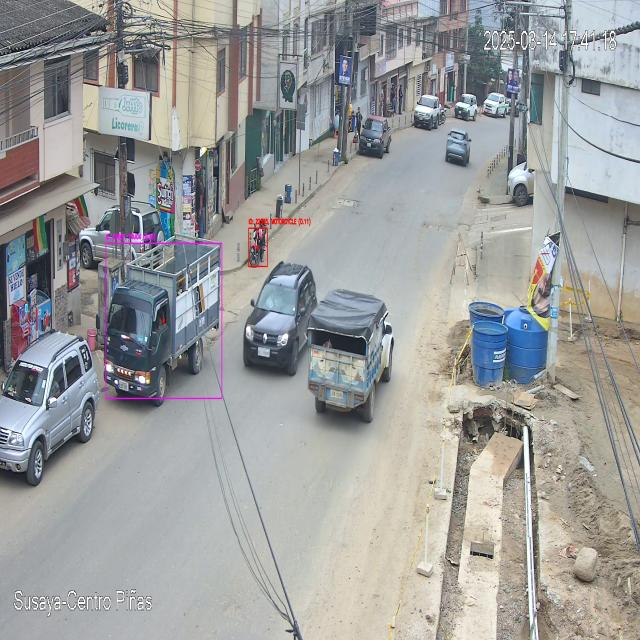CMT: (307, 291, 394, 418)
SUV: (242, 264, 318, 376)
TRUCK: (109, 252, 220, 391)
